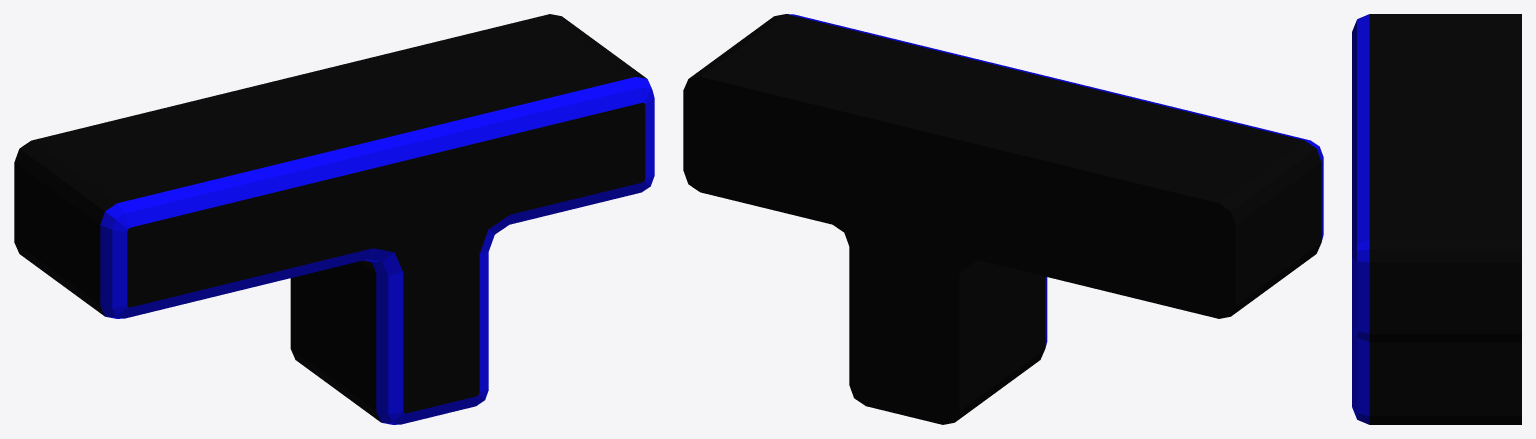
Rendered from 100_LongTRight.obj.
3 views of the same model, side by side, from view 1: azimuth 30°, elevation 25°; view 2: azimuth 150°, elevation 25°; view 3: azimuth 270°, elevation 25° (orthographic). The views are drawn at different scales.
Parts seen in each view (by area): view 1: LongTRight_Plane.862; view 2: LongTRight_Plane.862; view 3: LongTRight_Plane.862.
Part boxes in pixels (x1,y1,x2,y2): LongTRight_Plane.862: (14, 14, 654, 424); LongTRight_Plane.862: (683, 14, 1323, 424); LongTRight_Plane.862: (1352, 14, 1521, 424).
Bounding box in the file's own units: 10 × 5 × 3.
